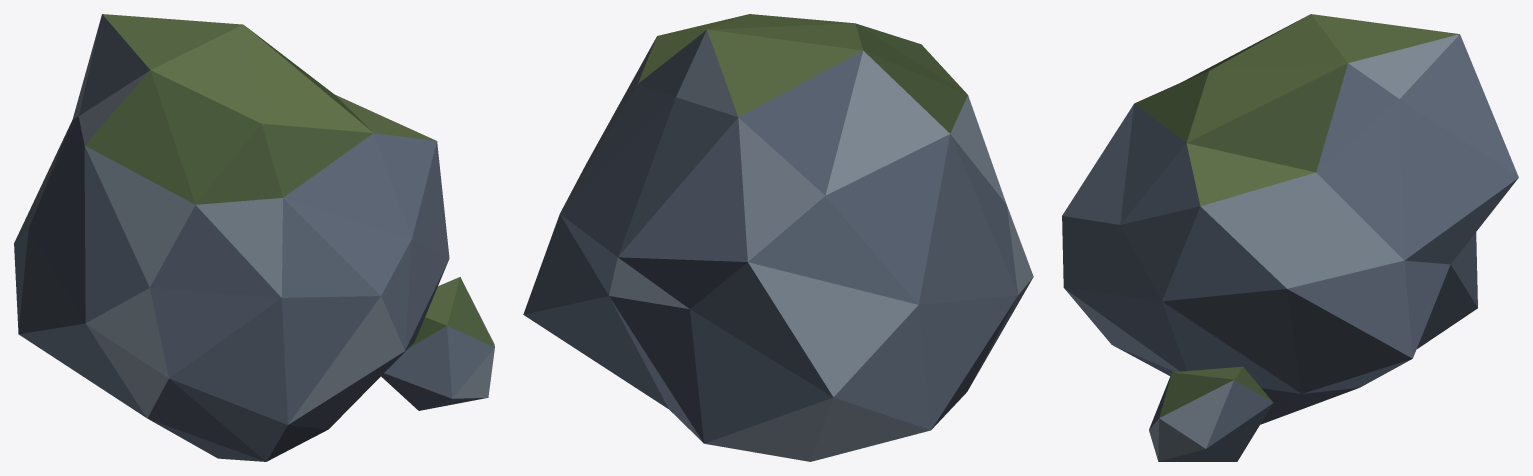
Rendered from rocks_a.glb.
3 views of the same model, side by side, from view 1: azimuth 30°, elevation 25°; view 2: azimuth 150°, elevation 25°; view 3: azimuth 270°, elevation 25° (orthographic). The views are drawn at different scales.
Visible parts, largest first — view 1: rocks_a; view 2: rocks_a; view 3: rocks_a.
Part boxes in pixels (<box>): rocks_a: <box>14,14,494,461</box>; rocks_a: <box>523,14,1033,461</box>; rocks_a: <box>1062,14,1518,461</box>.
Size of the model in its own units: 1.06 by 0.9651 by 1.11.
Materials: 1 (1 with a texture image).
